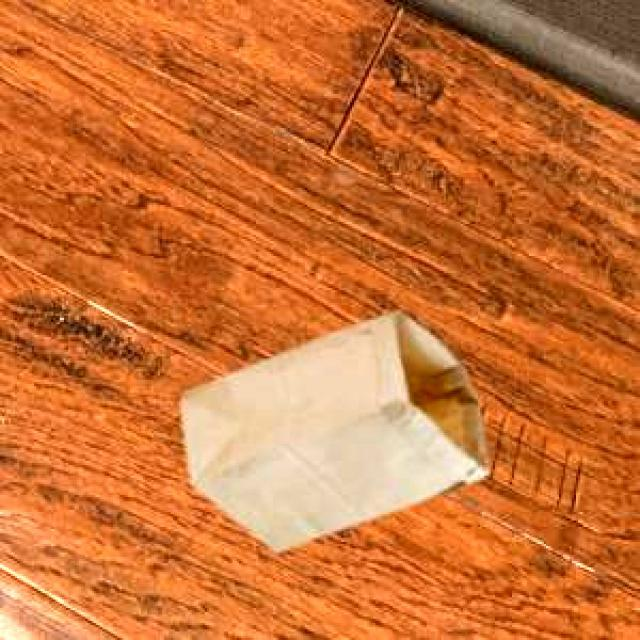Paper_Bag: (178, 310, 485, 548)
